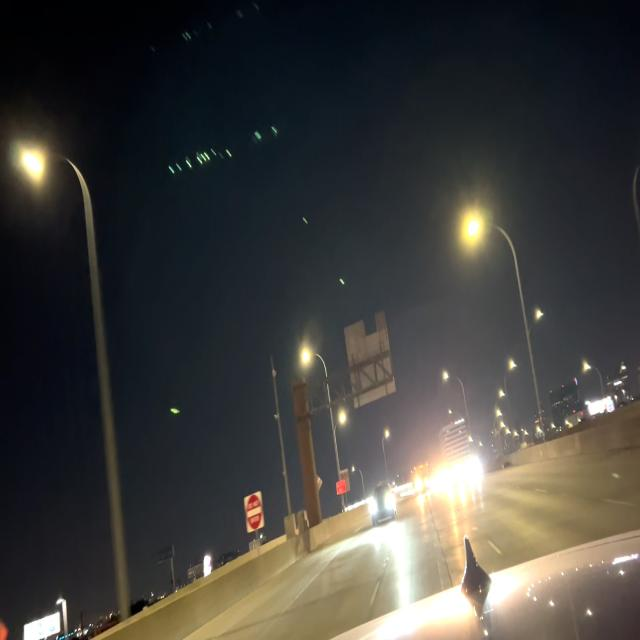back-of-sign: (343, 309, 398, 411)
